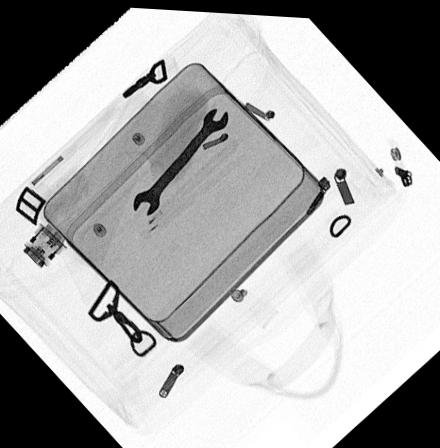Wrench: (130, 104, 230, 213)
